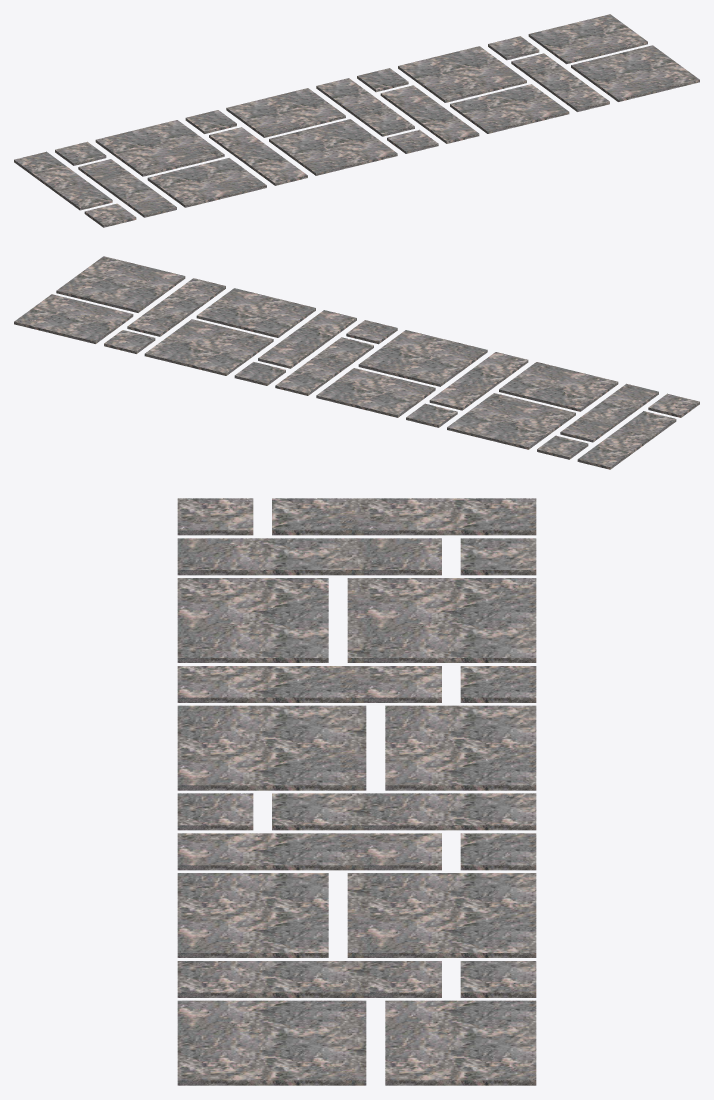
The model's file is 石子路01.gltf.
3 renders of one model, top to bottom at view 1: azimuth 30°, elevation 25°; view 2: azimuth 150°, elevation 25°; view 3: azimuth 270°, elevation 25°, orthographic. The views are drawn at different scales.
Parts seen in each view (by area): view 1: 石子路16; view 2: 石子路16; view 3: 石子路16.
Boxes of the visible parts, x1=… form: 石子路16: x1=14, y1=14, x2=699, y2=227; 石子路16: x1=14, y1=256, x2=699, y2=469; 石子路16: x1=177, y1=498, x2=536, y2=1085.
Bounding box in the file's own units: 20.6 × 0.0847 × 5.36.
Materials: 1 (1 with a texture image).
